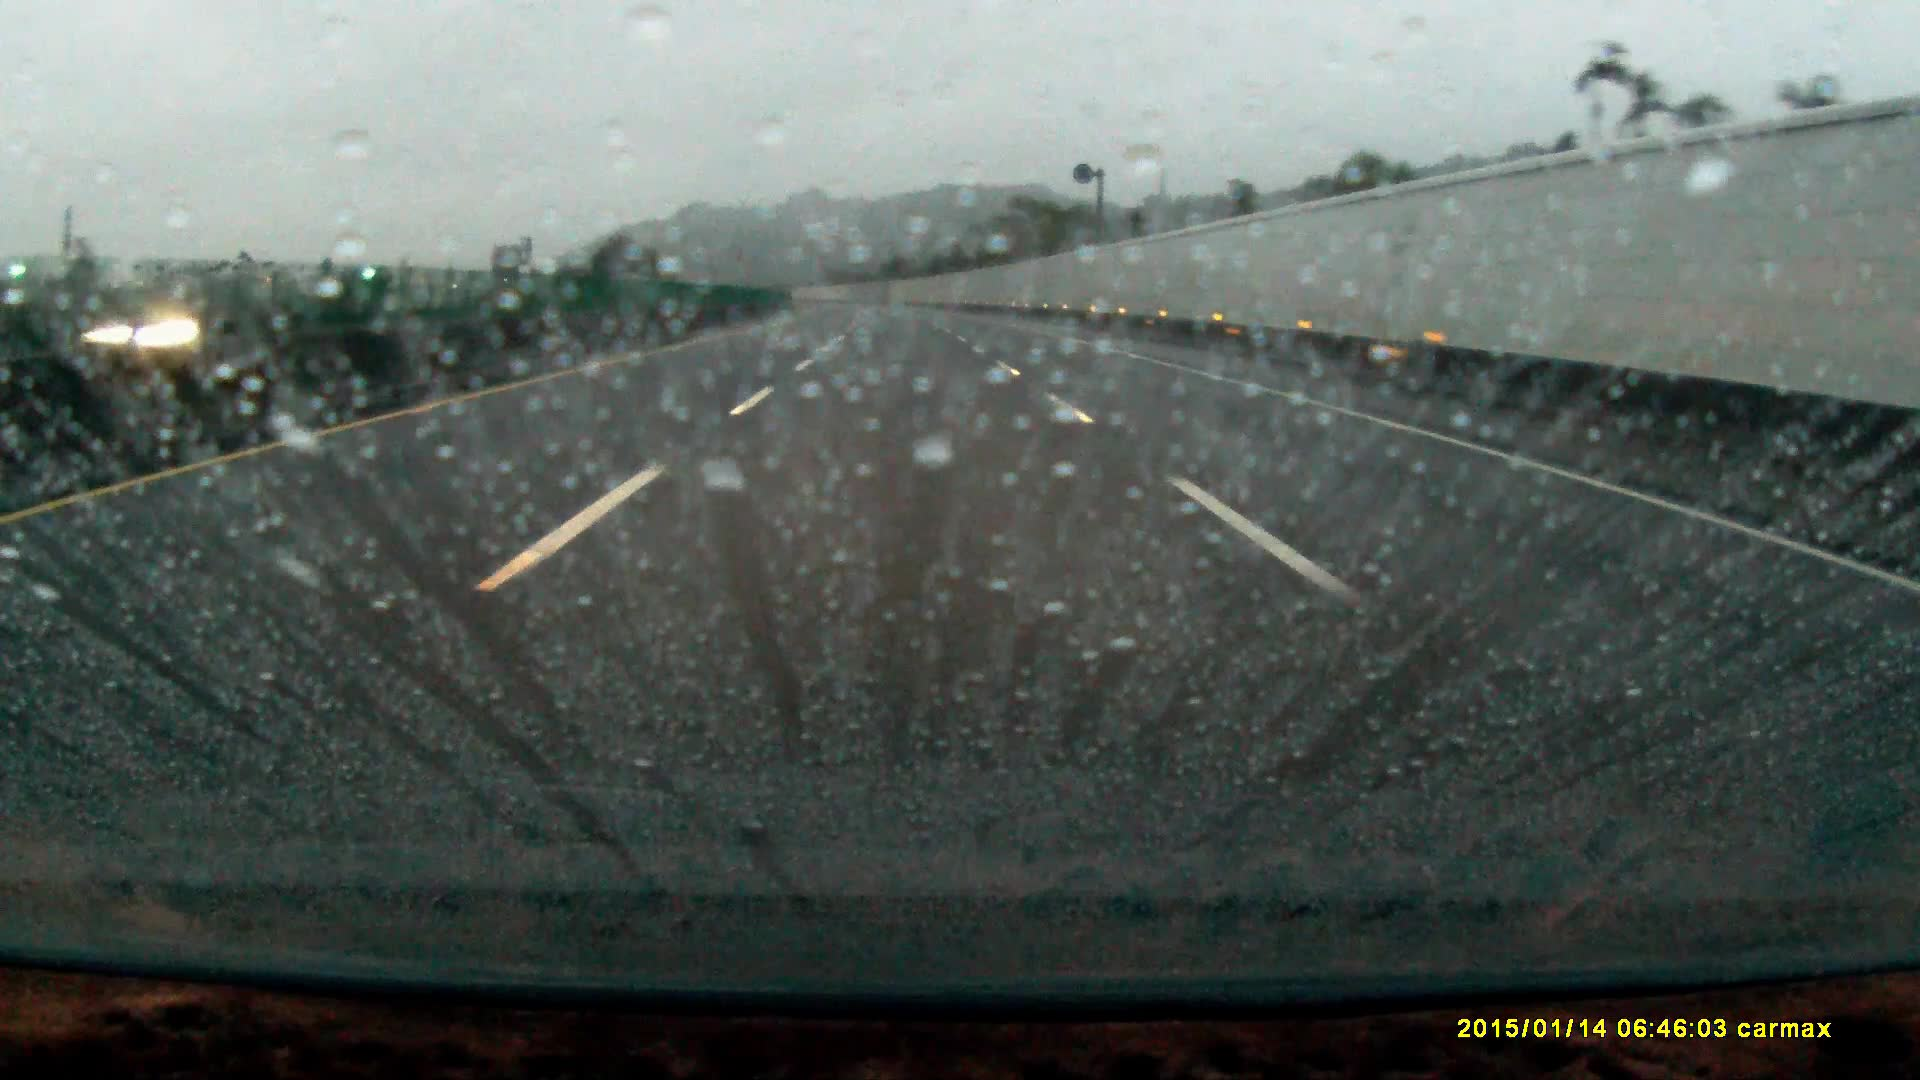vehicle: (76, 290, 215, 371)
